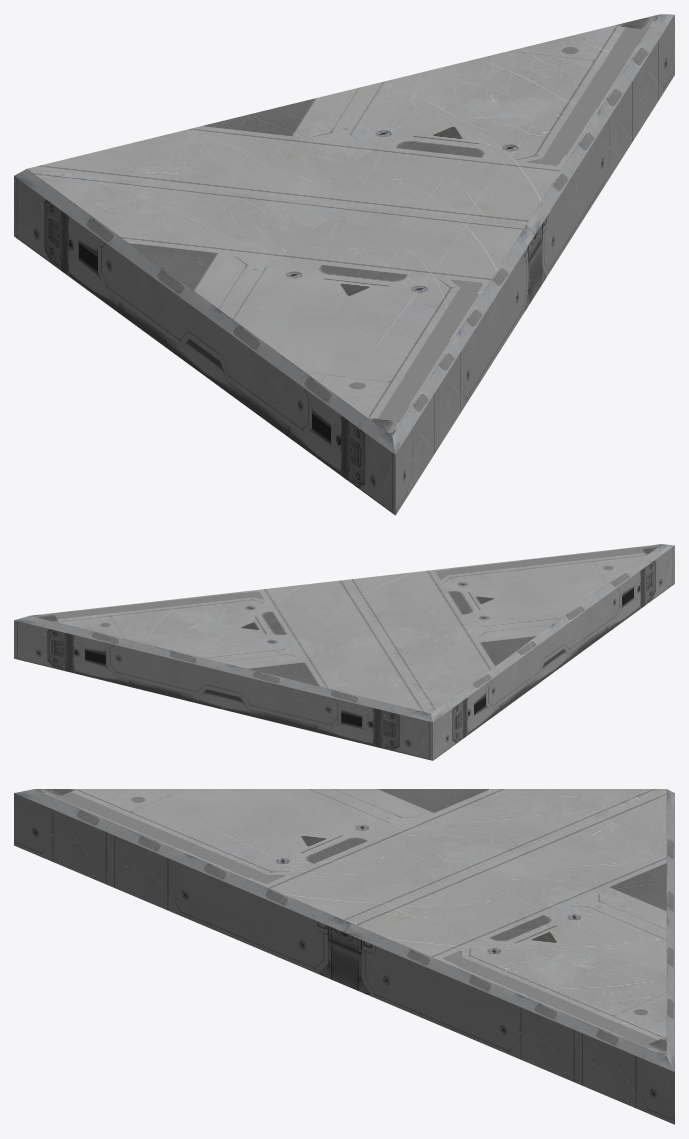
Rendered from SM_FloorHalf1.fbx.
3 renders of one model, top to bottom at view 1: azimuth 30°, elevation 25°; view 2: azimuth 150°, elevation 25°; view 3: azimuth 270°, elevation 25°, orthographic. The views are drawn at different scales.
Visible parts, largest first — view 1: SM_FloorHalf1_LOD0; view 2: SM_FloorHalf1_LOD0; view 3: SM_FloorHalf1_LOD0.
Boxes of the visible parts, x1,y1,x2,y2 form: SM_FloorHalf1_LOD0: (14, 14, 674, 515); SM_FloorHalf1_LOD0: (14, 544, 674, 760); SM_FloorHalf1_LOD0: (14, 789, 674, 1124).
Bounding box in the file's own units: 200 × 200 × 20.
2 materials, 2 textured.
